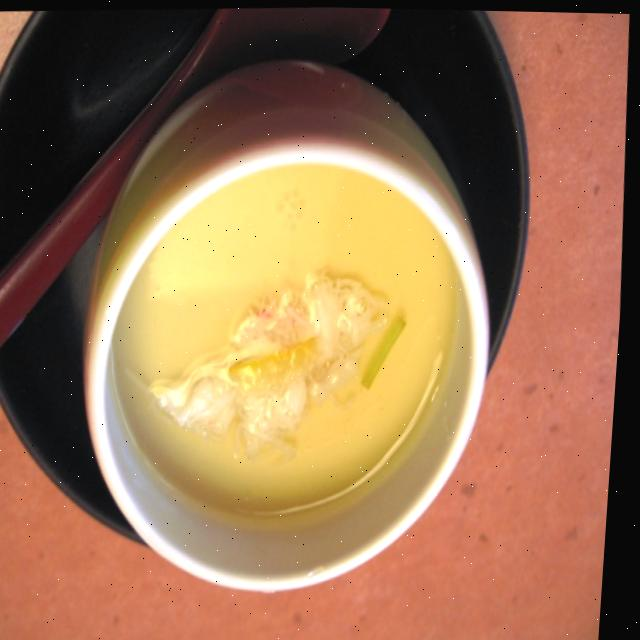鸡蛋料理: (67, 78, 539, 611)
